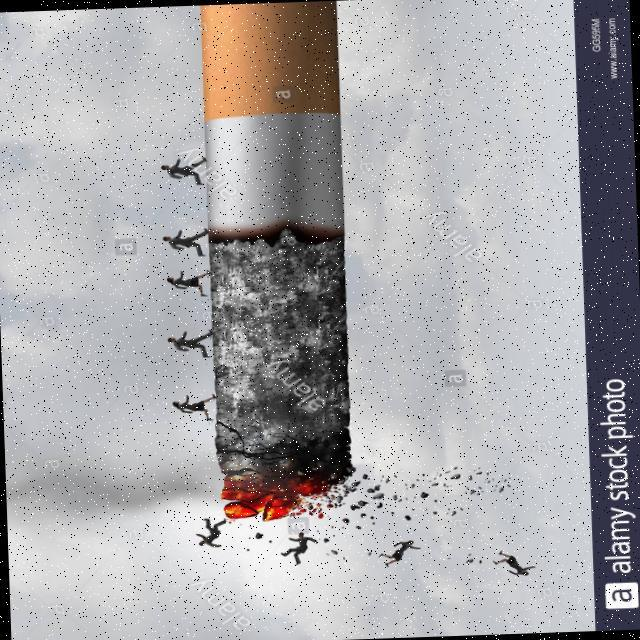cigarette: (197, 0, 352, 515)
